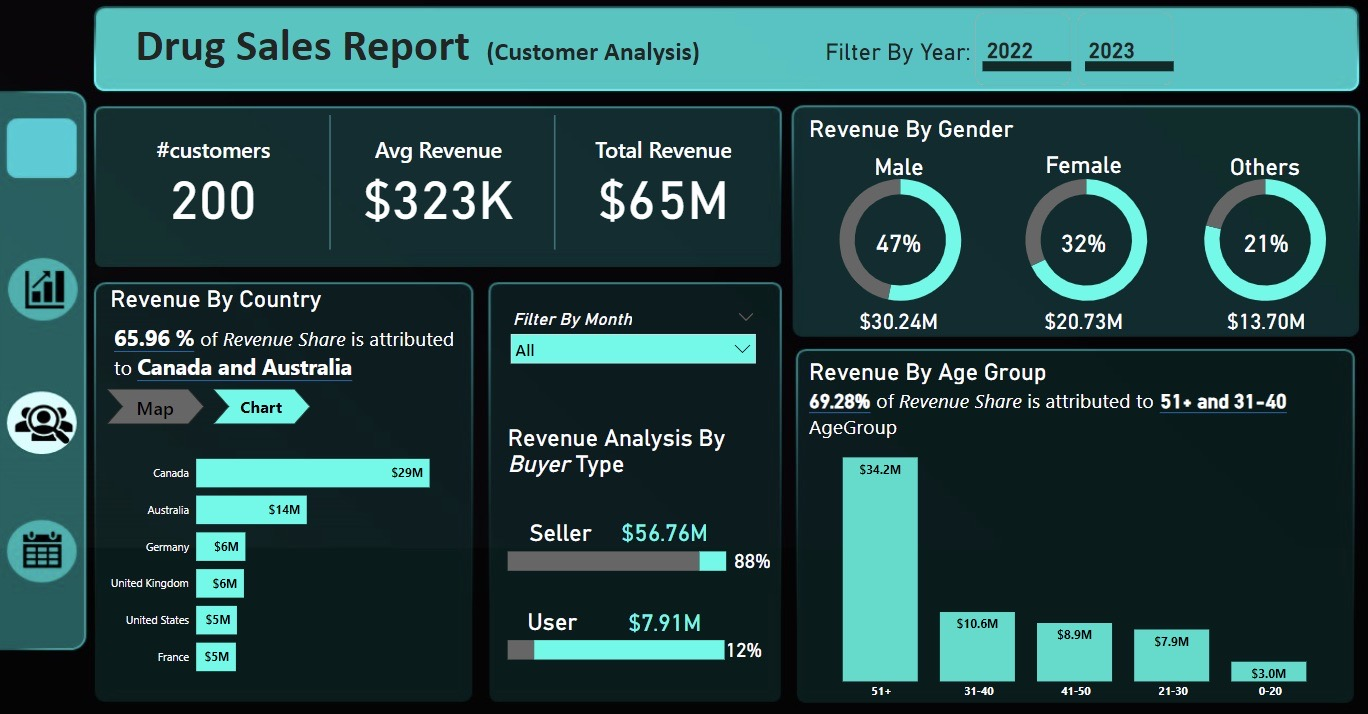

Layout of this report page (visuals, bound fields, positions):
{"tool":"powerbi","page":{"name":"Customer Analysis","canvas":[1700,900],"ordinal":1},"visuals":[{"type":"cardVisual","fields":{"Data":["Calculated Measures.#customers","Calculated Measures.Avg Revenue","Calculated Measures.Total Revenue"]},"box":[130,144,838,176],"z":0},{"type":"clusteredBarChart","title":"Chart Country","fields":{"Y":["Calculated Measures.Total Revenue"],"Category":["CustomerTable.Country"]},"box":[129.3,541.5,455.1,317.8],"z":1000,"group":"g1"},{"type":"card","fields":{"Values":["Calculated Measures.Male Revenue"]},"box":[1060,378,114,48],"z":1000},{"type":"slicer","fields":{"Values":["Date Master.Month"]},"box":[627.2,382.7,322.4,93.9],"z":2000},{"type":"donutChart","fields":{"Y":["Calculated Measures.R:Male","Calculated Measures.% Male Revenue"]},"box":[1000,204,236,198],"z":3000},{"type":"donutChart","fields":{"Y":["Calculated Measures.R:Female","Calculated Measures.% Female Revenue"]},"box":[1236,204,226,198],"z":4000},{"type":"donutChart","fields":{"Y":["Calculated Measures.R:Other","Calculated Measures.% Other Revenue"]},"box":[1462,204,214,198],"z":5000},{"type":"card","fields":{"Values":["Calculated Measures.% Male Revenue"]},"box":[1080,276,74,56],"z":6000},{"type":"card","fields":{"Values":["Calculated Measures.% Female Revenue"]},"box":[1308,276,74,56],"z":7000},{"type":"card","fields":{"Values":["Calculated Measures.% Other Revenue"]},"box":[1534,276,74,56],"z":8000},{"type":"card","fields":{"Values":["Calculated Measures.Female Revenue"]},"box":[1288,378,114,48],"z":9000},{"type":"card","fields":{"Values":["Calculated Measures.Other Revenue"]},"box":[1514,378,114,48],"z":10000},{"type":"textbox","box":[1038,190,158,44],"z":11000},{"type":"textbox","box":[1512,190,114,44],"z":12000},{"type":"textbox","box":[1288,188,114,44],"z":13000},{"type":"textbox","box":[1000.2,144.1,675.5,59],"z":14000},{"type":"textbox","box":[1001,442.9,627.2,42.5],"z":15000},{"type":"clusteredColumnChart","fields":{"Y":["Calculated Measures.Total Revenue"],"Category":["CustomerTable.Age Group"]},"box":[993.9,531.5,682.1,349],"z":16000},{"type":"textbox","box":[1001,476.6,659.1,83.3],"z":17000},{"type":"barChart","fields":{"Y":["Calculated Measures.% User","Calculated Measures.R:User"]},"box":[628,752,278,108],"z":18000},{"type":"card","fields":{"Values":["Calculated Measures.% User"]},"box":[882,784,86,48],"z":19000},{"type":"card","fields":{"Values":["Calculated Measures.User Revenue"]},"box":[734,742,188,66],"z":20000},{"type":"textbox","box":[628,752,120,56],"z":21000},{"type":"barChart","fields":{"Y":["Calculated Measures.% Seller","Calculated Measures.R:Seller"]},"box":[628,642,280,108],"z":22000},{"type":"card","fields":{"Values":["Calculated Measures.% Seller"]},"box":[882,670,108,56],"z":23000},{"type":"card","fields":{"Values":["Calculated Measures.Seller Revenue"]},"box":[748,630,160,66],"z":24000},{"type":"textbox","box":[628,642,140,56],"z":25000},{"type":"textbox","box":[628.6,524.4,338.6,92],"z":26000},{"type":"group","id":"g1","title":"Country","box":[129.3,536.8,455.3,322.4],"z":27000},{"type":"bookmarkNavigator","box":[138.2,487.2,253.3,44.3],"z":28000},{"type":"textbox","box":[138.2,354.3,446.5,46.1],"z":29000},{"type":"textbox","box":[141.7,400.4,442.9,85],"z":30000},{"type":"textbox","box":[168.3,21.3,753,97.4],"z":31000},{"type":"textbox","box":[1020.9,47.9,219.8,45.7],"z":32000},{"type":"actionButton","box":[0,639.6,111.6,92.1],"z":33000},{"type":"actionButton","box":[0,478.3,111.6,92.1],"z":34000},{"type":"actionButton","box":[0,324.2,111.6,92.1],"z":35000},{"type":"advancedSlicerVisual","fields":{"Values":["Date Master.Year"]},"box":[1206.5,17.7,255.1,101],"z":36000},{"type":"shape","box":[1346.5,81.5,109.8,12.4],"z":36001},{"type":"shape","box":[1220.7,81.5,109.8,12.4],"z":36002}]}

Visuals, with their boxes in screenshot pixels (x1, y1, x2, y2), scaled from the page's 1700x900 canvas onto the 1368x714 screenshot:
cardVisual - Calculated Measures.#customers x Calculated Measures.Avg Revenue: 105,114,779,254
"Chart Country" clusteredBarChart: 104,430,470,682
card - Calculated Measures.Male Revenue: 853,300,945,338
slicer - Date Master.Month: 505,304,764,378
donutChart - Calculated Measures.R:Male x Calculated Measures.% Male Revenue: 805,162,995,319
donutChart - Calculated Measures.R:Female x Calculated Measures.% Female Revenue: 995,162,1176,319
donutChart - Calculated Measures.R:Other x Calculated Measures.% Other Revenue: 1176,162,1349,319
card - Calculated Measures.% Male Revenue: 869,219,929,263
card - Calculated Measures.% Female Revenue: 1053,219,1112,263
card - Calculated Measures.% Other Revenue: 1234,219,1294,263
card - Calculated Measures.Female Revenue: 1036,300,1128,338
card - Calculated Measures.Other Revenue: 1218,300,1310,338
textbox: 835,151,962,186
textbox: 1217,151,1308,186
textbox: 1036,149,1128,184
textbox: 805,114,1348,161
textbox: 806,351,1310,385
clusteredColumnChart - Calculated Measures.Total Revenue x CustomerTable.Age Group: 800,422,1349,699
textbox: 806,378,1336,444
barChart - Calculated Measures.% User x Calculated Measures.R:User: 505,597,729,682
card - Calculated Measures.% User: 710,622,779,660
card - Calculated Measures.User Revenue: 591,589,742,641
textbox: 505,597,602,641
barChart - Calculated Measures.% Seller x Calculated Measures.R:Seller: 505,509,731,595
card - Calculated Measures.% Seller: 710,532,797,576
card - Calculated Measures.Seller Revenue: 602,500,731,552
textbox: 505,509,618,554
textbox: 506,416,778,489
"Country" group: 104,426,470,682
bookmarkNavigator: 111,387,315,422
textbox: 111,281,471,318
textbox: 114,318,470,385
textbox: 135,17,741,94
textbox: 822,38,998,74
actionButton: 0,507,90,580
actionButton: 0,379,90,453
actionButton: 0,257,90,330
advancedSlicerVisual - Date Master.Year: 971,14,1176,94
shape: 1084,65,1172,74
shape: 982,65,1071,74
